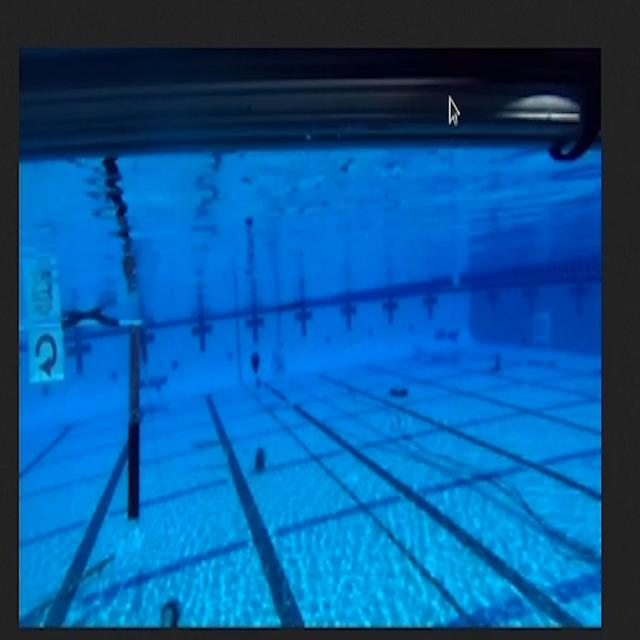Gate: (19, 311, 164, 542)
Path: (35, 544, 130, 626)
